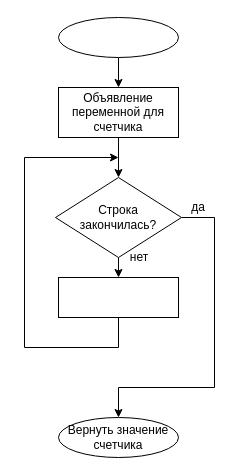
Some shapes in this 240 by 475 pixel diagram are drawn without their labels. The centre of each missing label's shape, as x and y in pixels:
"НАЧАЛО" belongs at point (118, 37).
"Увеличить значение счетчика" belongs at point (118, 297).
